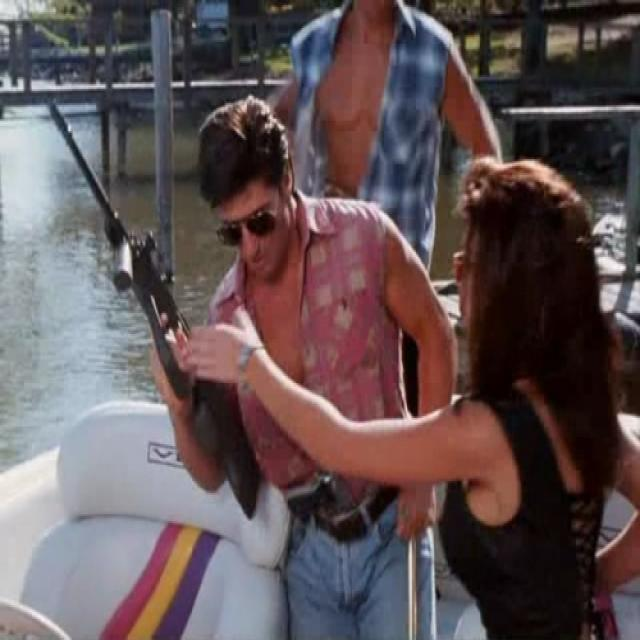rifle: (46, 91, 265, 522)
